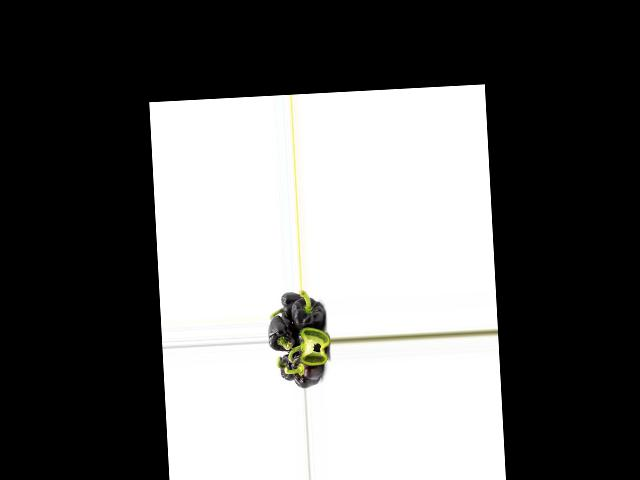bell_pepper: (290, 346, 322, 388)
